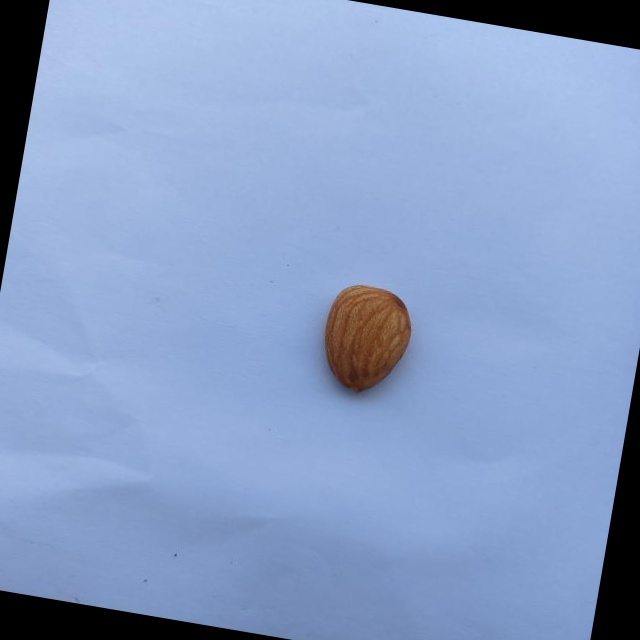grade1: (305, 272, 425, 409)
